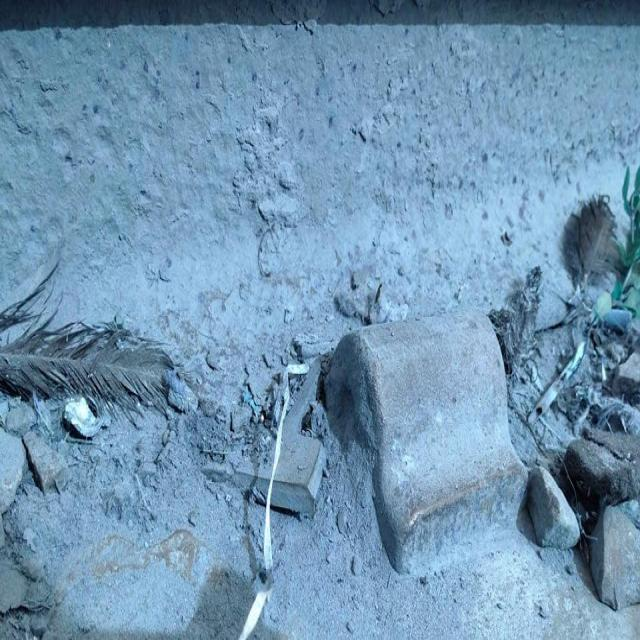Missing Fastener: (292, 284, 576, 614)
